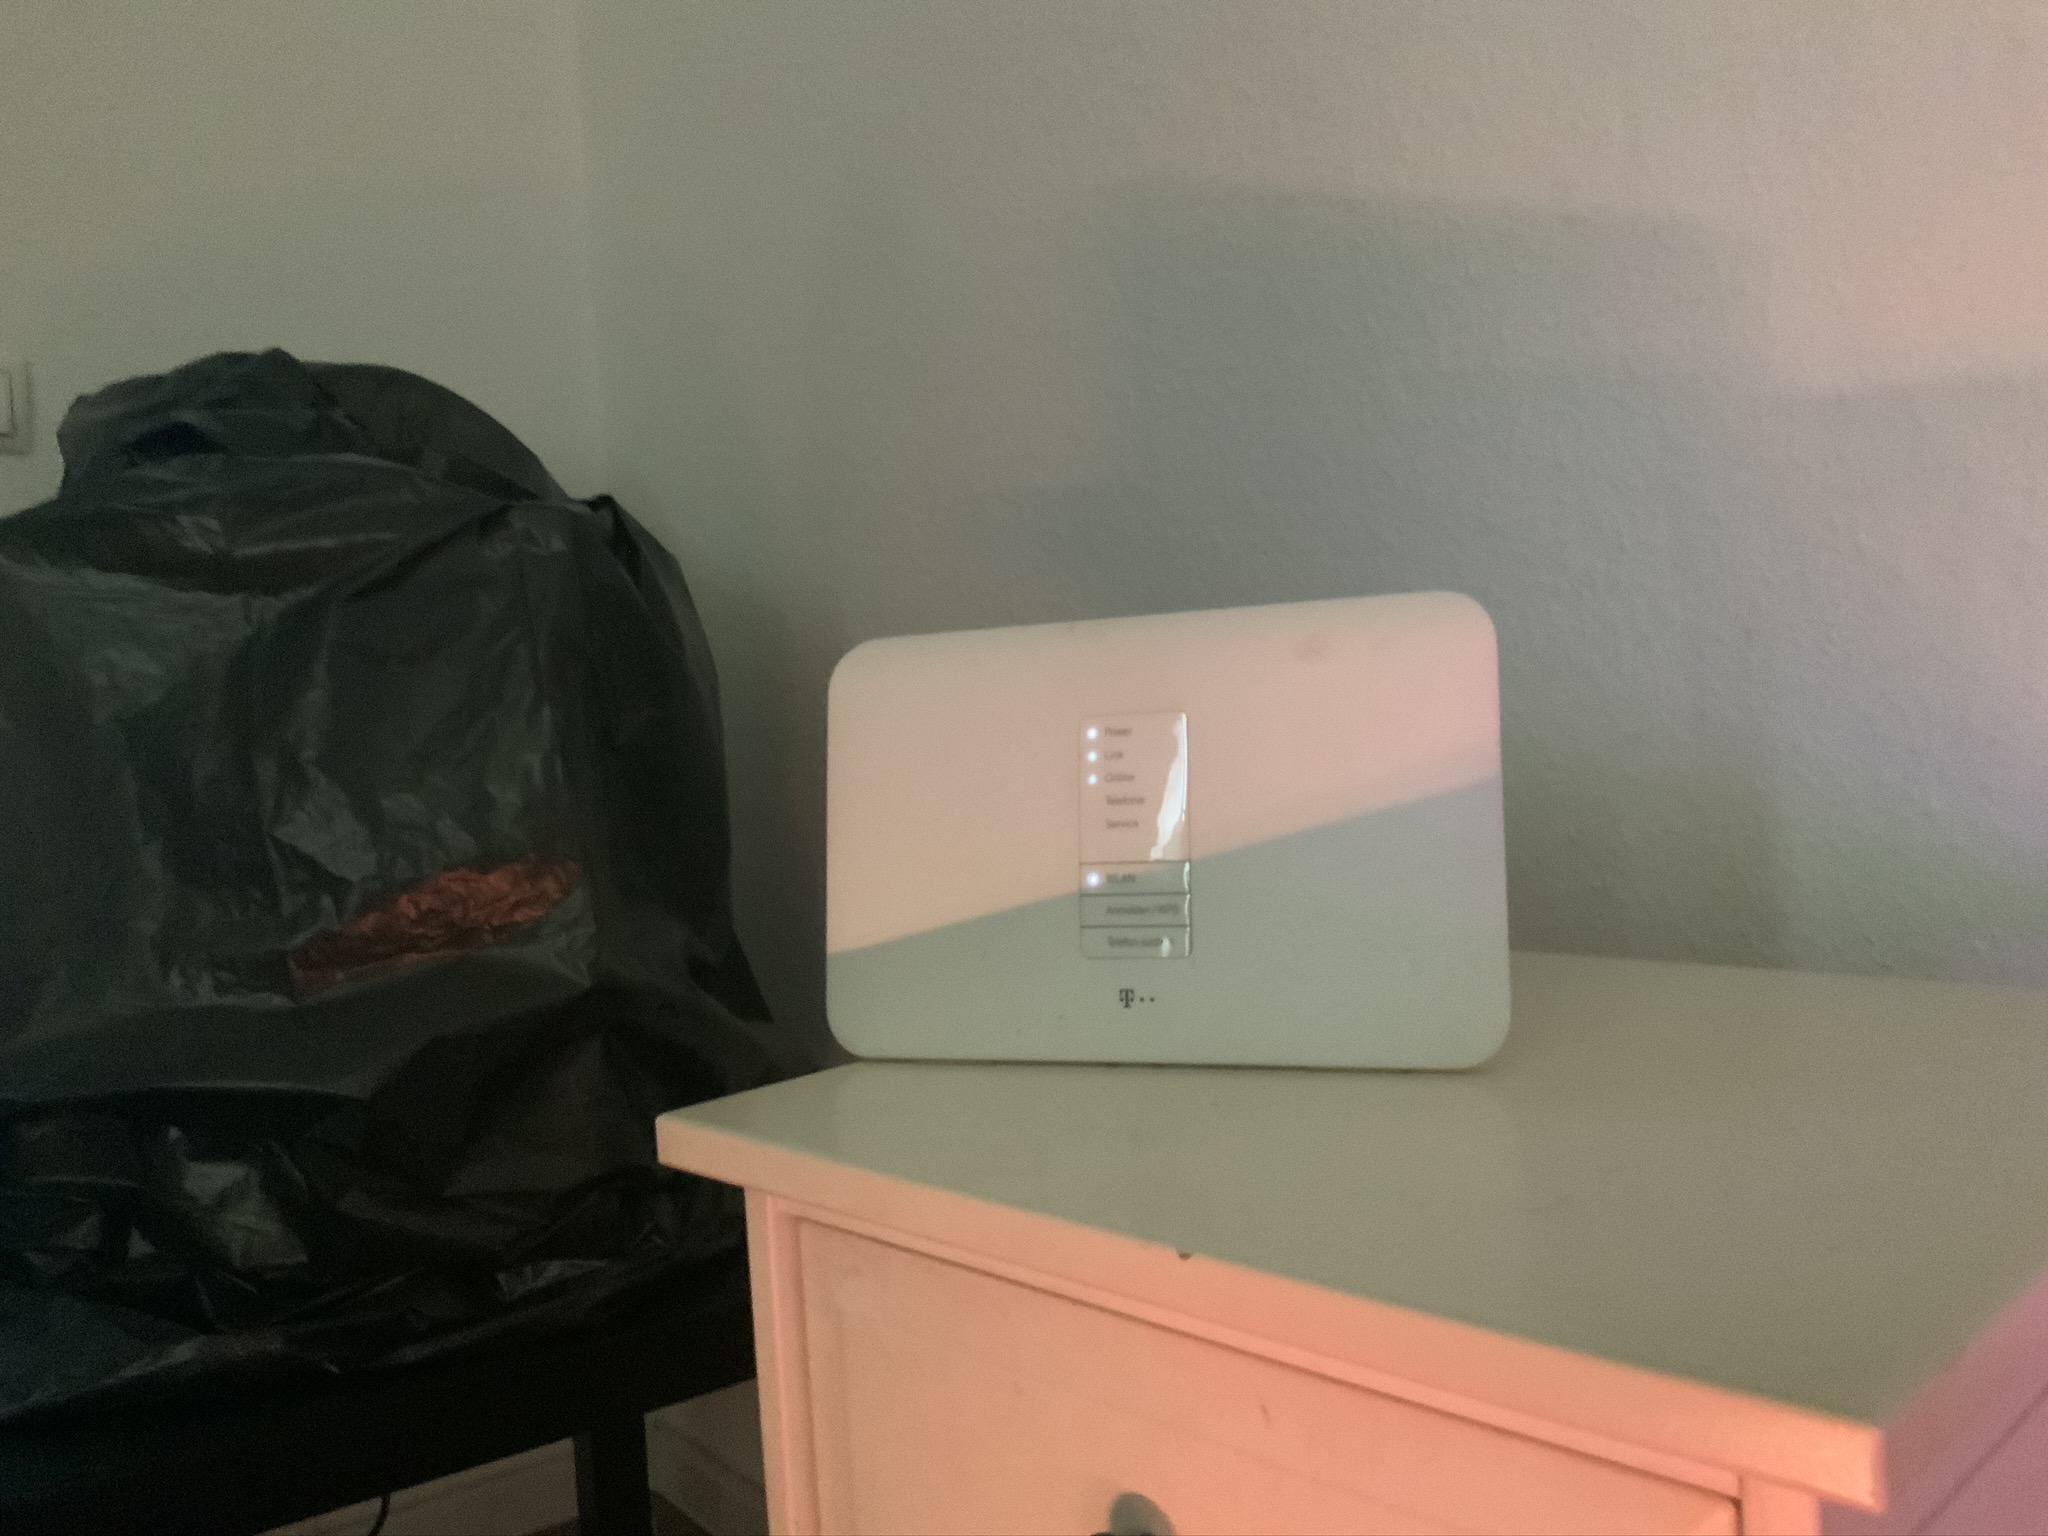router: (806, 579, 1522, 1078)
